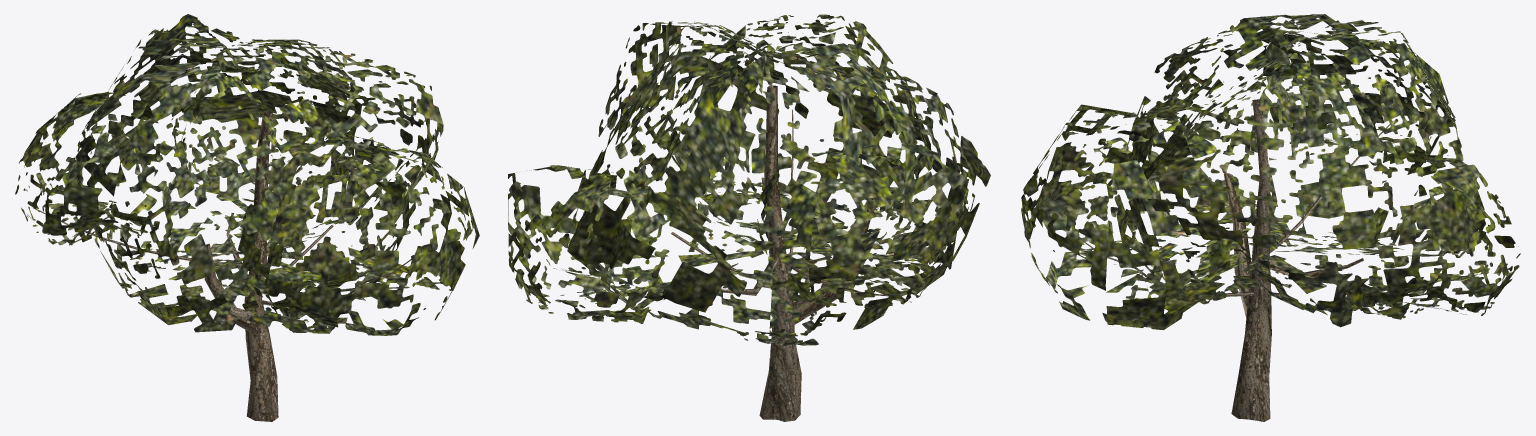
The model's file is SM_Tree.FBX.
3 views of the same model, side by side, from view 1: azimuth 30°, elevation 25°; view 2: azimuth 150°, elevation 25°; view 3: azimuth 270°, elevation 25° (orthographic). The views are drawn at different scales.
Visible parts, largest first — view 1: SM_Tree; view 2: SM_Tree; view 3: SM_Tree.
Boxes of the visible parts, left/top/right/bottom form: SM_Tree: left=15, top=14, right=479, bottom=421; SM_Tree: left=508, top=14, right=990, bottom=421; SM_Tree: left=1021, top=14, right=1520, bottom=421.
Bounding box in the file's own units: 372 × 427 × 347.
1 material, 1 textured.
